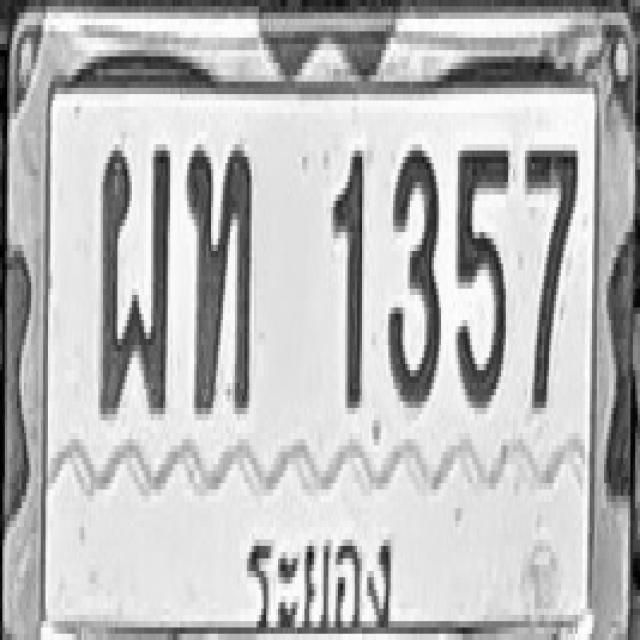1: (331, 144, 364, 408)
3: (387, 144, 440, 408)
32ThorThaHan: (187, 141, 252, 411)
37PhorPhueng: (98, 141, 170, 417)
5: (454, 144, 510, 408)
7: (525, 144, 578, 408)
Rayong: (238, 509, 400, 636)
